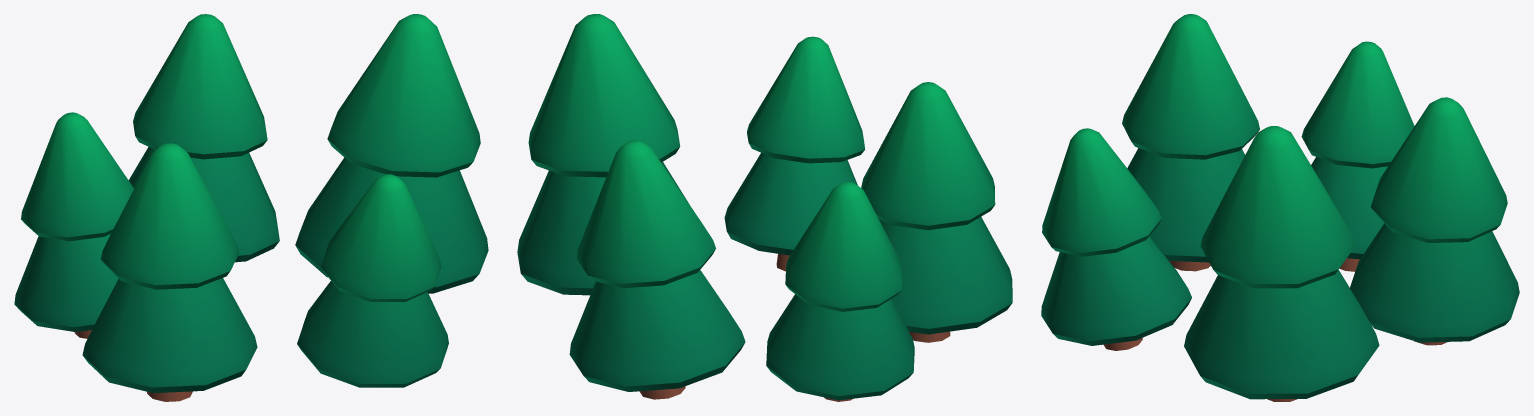
File: trees_B_medium.glb
The picture shows the model from 3 angles, left to right: view 1: azimuth 30°, elevation 25°; view 2: azimuth 150°, elevation 25°; view 3: azimuth 270°, elevation 25°; orthographic projection.
Parts seen in each view (by area): view 1: trees_B_medium; view 2: trees_B_medium; view 3: trees_B_medium.
Boxes of the visible parts, <box> form: trees_B_medium: <box>14,14,488,401</box>; trees_B_medium: <box>517,14,1012,401</box>; trees_B_medium: <box>1041,14,1519,401</box>.
Size of the model in its own units: 1.86 by 1.17 by 1.83.
Materials: 1 (1 with a texture image).
